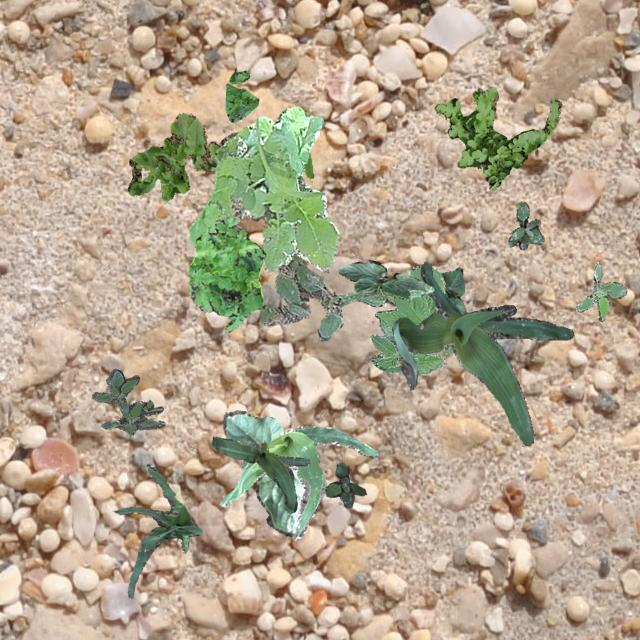crop: (390, 260, 572, 444), (218, 424, 376, 540), (114, 462, 202, 598), (222, 410, 304, 536), (370, 265, 452, 375), (210, 436, 308, 512), (338, 258, 432, 298), (440, 266, 464, 314)
weed: (188, 105, 338, 272), (128, 112, 312, 200), (434, 86, 560, 190), (258, 252, 394, 342), (188, 215, 264, 332), (90, 368, 163, 433), (574, 260, 626, 320), (324, 461, 366, 506), (225, 68, 258, 120), (508, 200, 542, 248)
